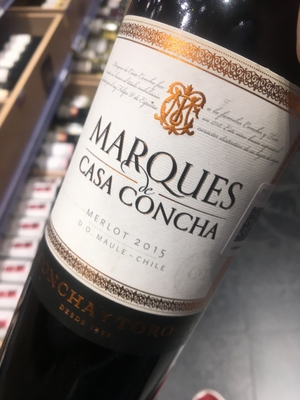marques de casa concha merlot: (28, 16, 300, 393)
